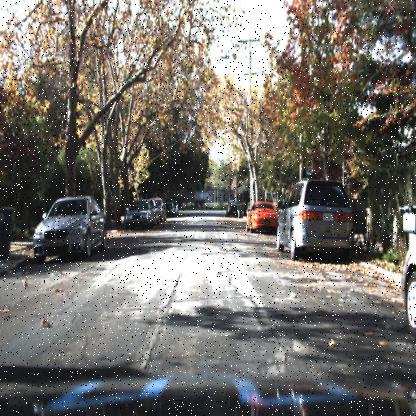car: (273, 178, 357, 268), (274, 182, 352, 254), (33, 194, 104, 258), (402, 236, 416, 341), (245, 199, 277, 238), (126, 198, 152, 234), (158, 197, 168, 225), (152, 196, 161, 226)
